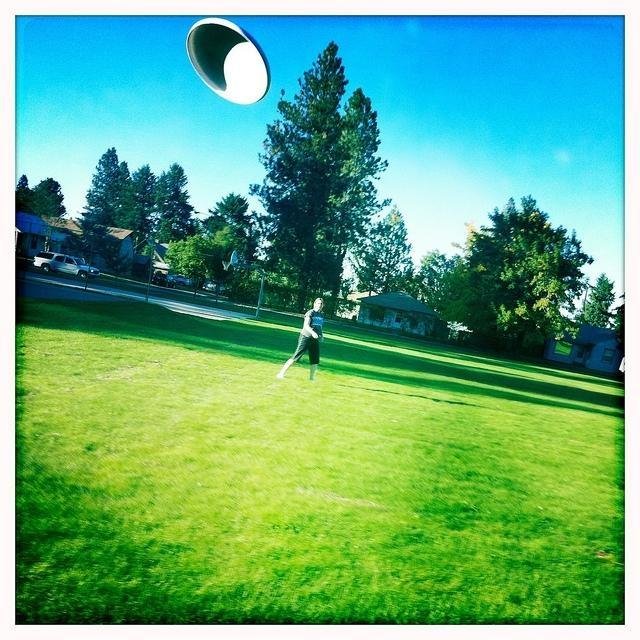car: (33, 250, 101, 278), (155, 273, 177, 287), (173, 275, 192, 286), (206, 284, 225, 293)
